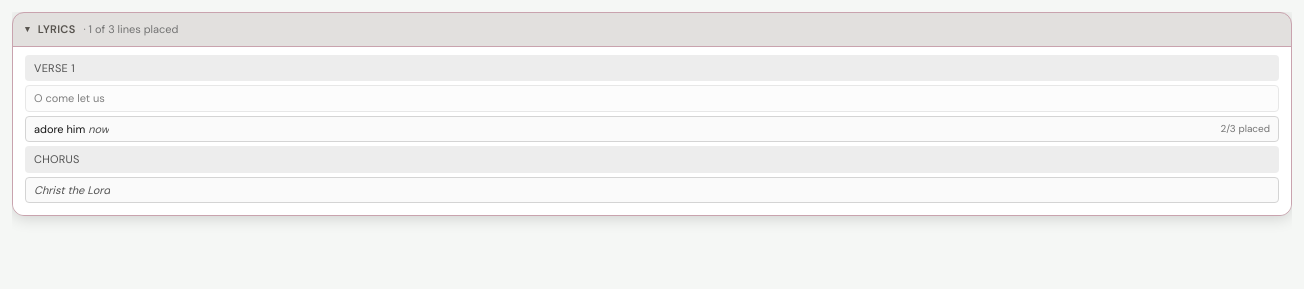
Test case: LyricDrawer — pick mode › a PLACED word offers a move rather than refusing
Click the button "adore him now 2/3 placed" at (1253, 129), box [25, 116, 1279, 142]
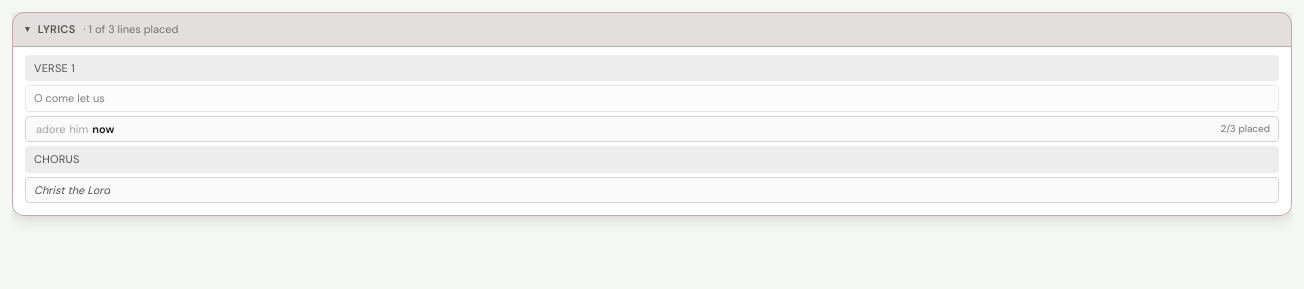
Click the button "adore" at (51, 129), box [34, 120, 68, 137]
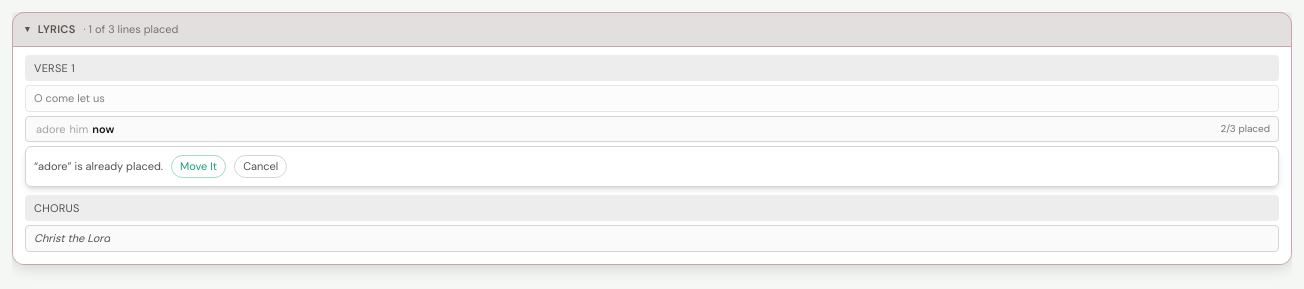
expect the text "is already placed" is shown: met, box [68, 159, 163, 173]
